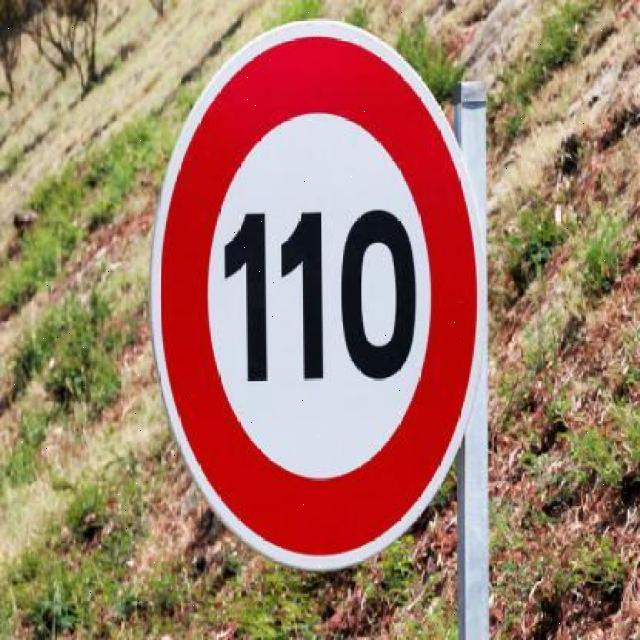speed limit 110: (148, 18, 477, 574)
